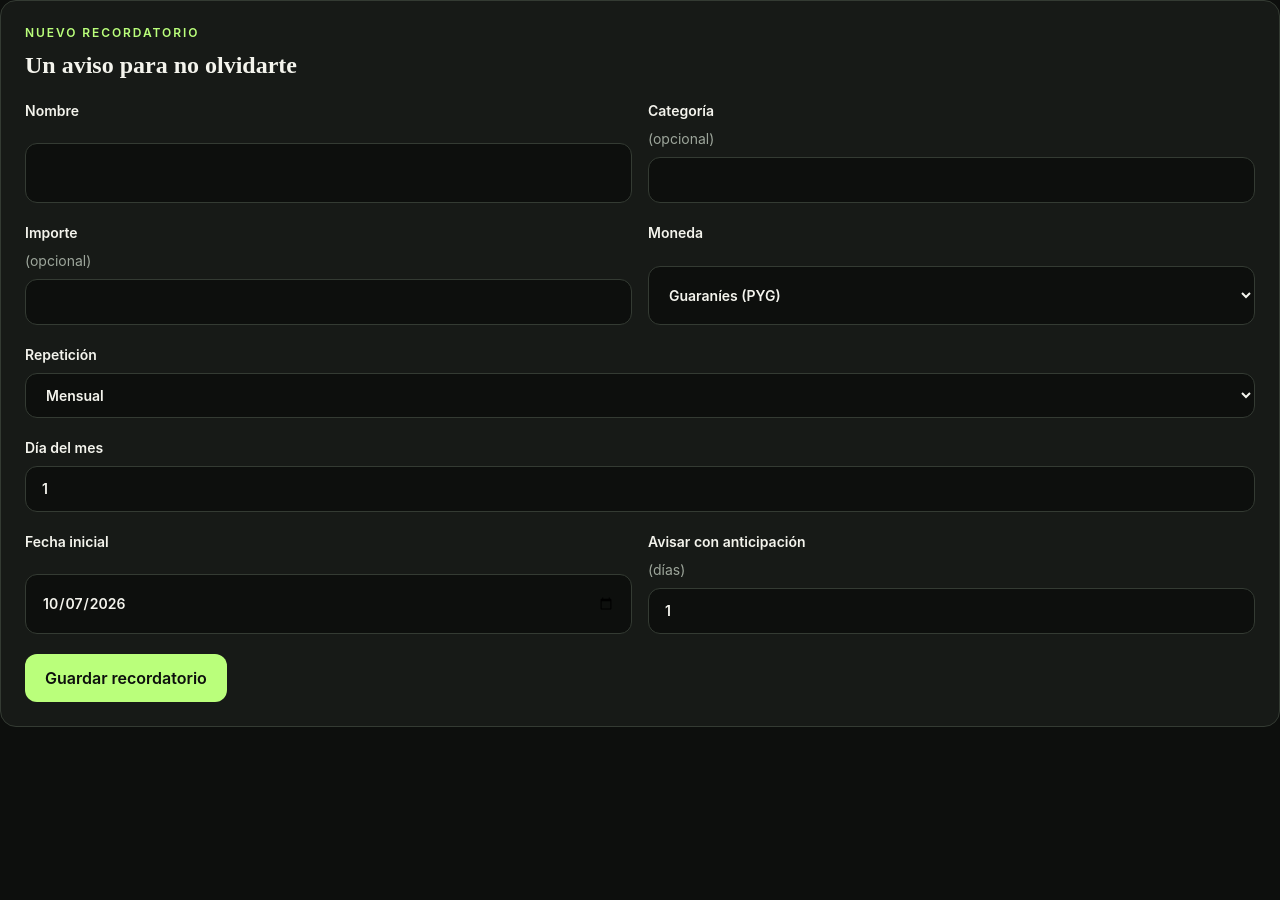
Test: ReminderForm › starts monthly and exposes every recurrence-specific field
Expected: the number field labelled "Día del mes" is shown, 25,466 -> 1255,512
Select "Semanal" in the dropdown labelled "Repetición": (640, 396) 25,373 -> 1255,418
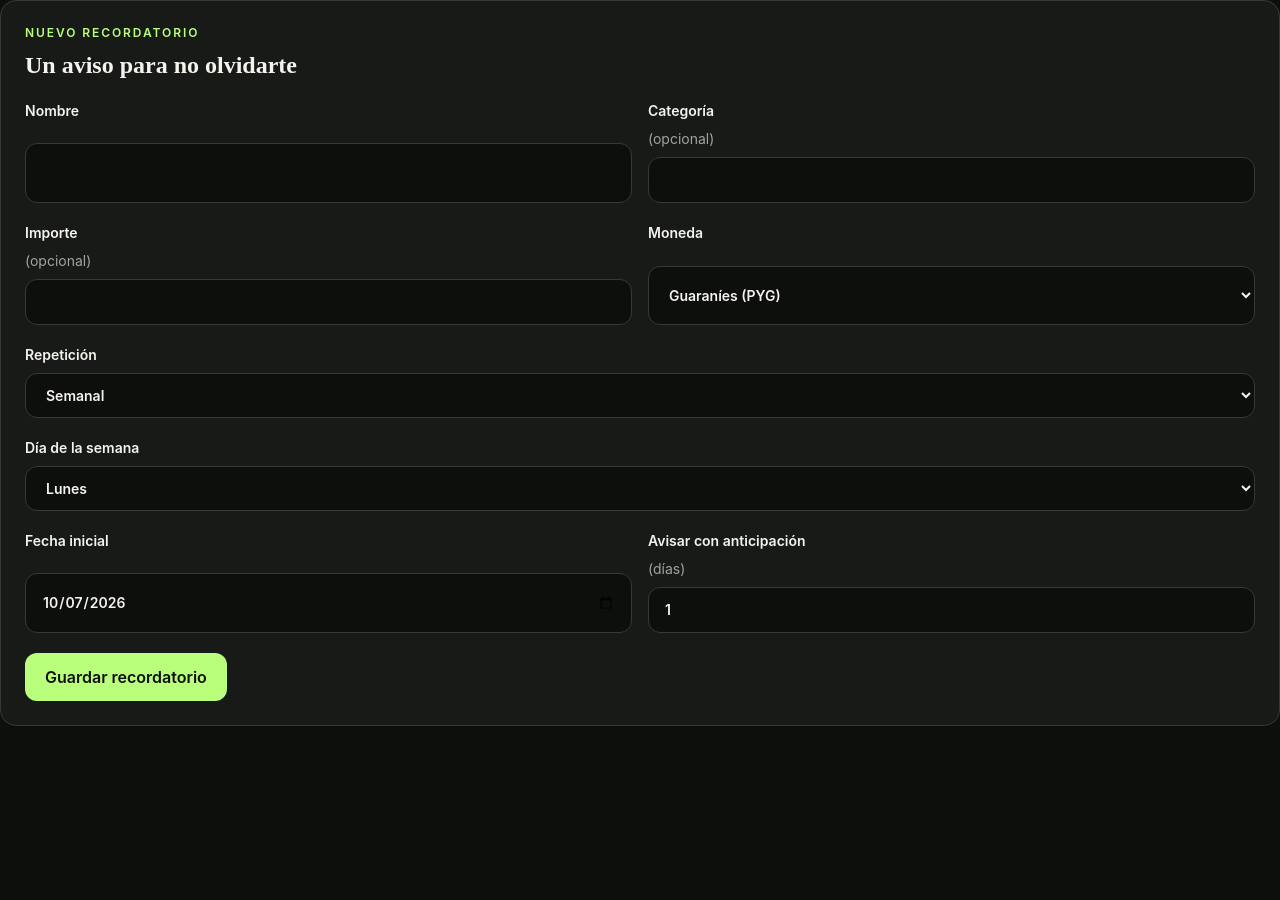
Expected: the dropdown labelled "Día de la semana" is shown, 25,466 -> 1255,511
Select "Anual" in the dropdown labelled "Repetición": (640, 396) 25,373 -> 1255,418
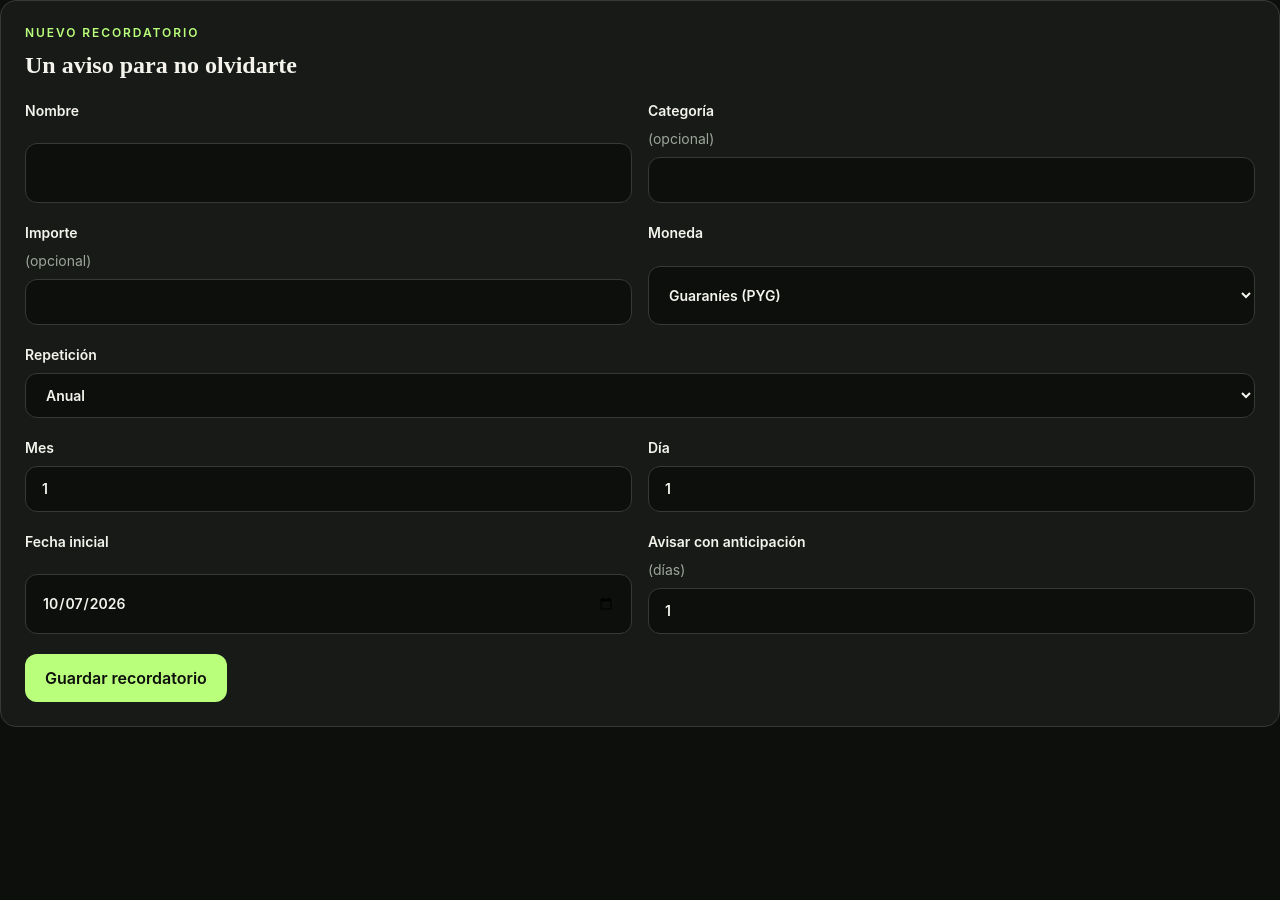
Expected: the number field labelled "Mes" is shown, 25,466 -> 632,512
Expected: the number field labelled "Día" is shown, 648,466 -> 1255,512
Select "Personalizada" in the dropdown labelled "Repetición": (640, 396) 25,373 -> 1255,418
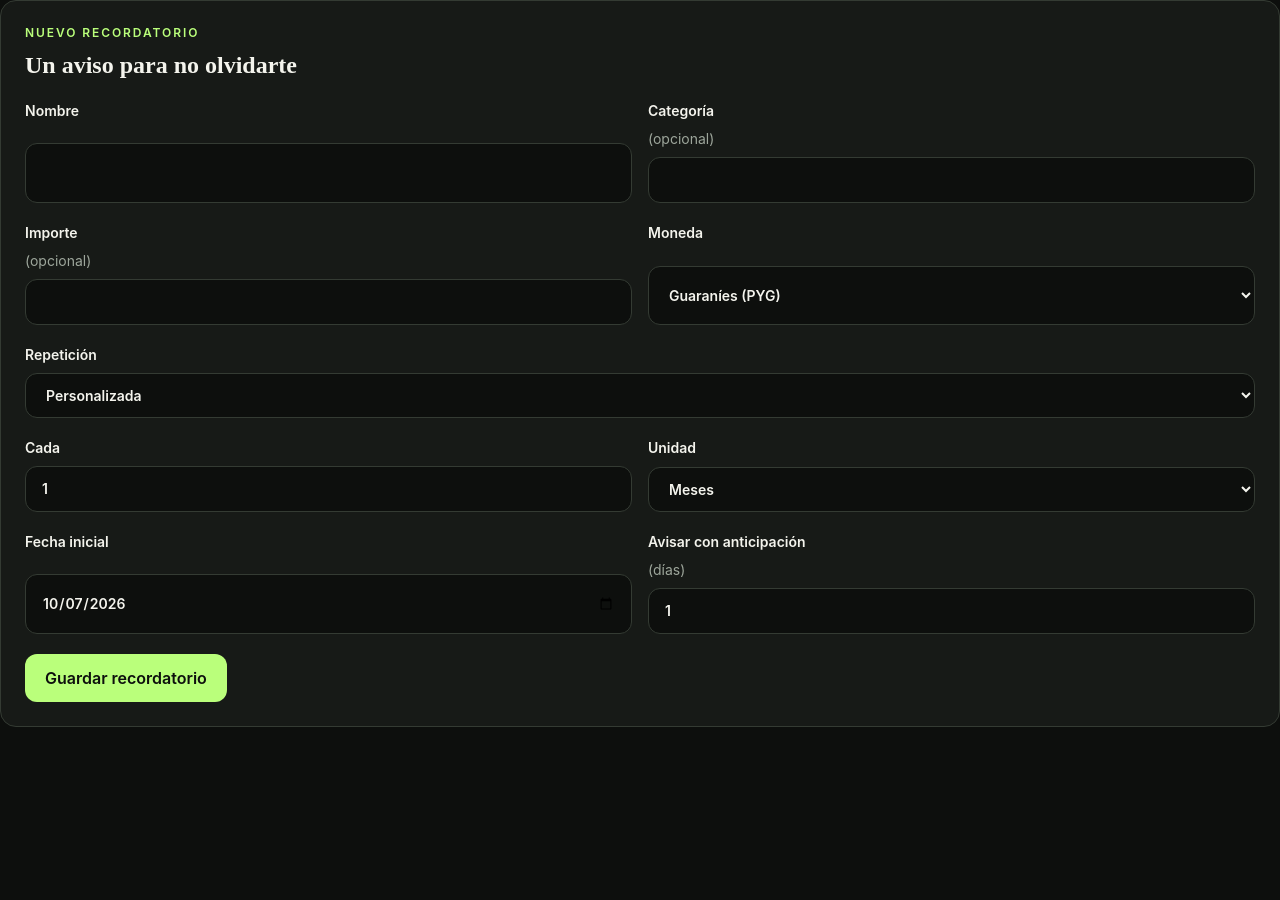
Expected: the number field labelled "Cada" is shown, 25,466 -> 632,512
Expected: the dropdown labelled "Unidad" is shown, 648,466 -> 1255,512
